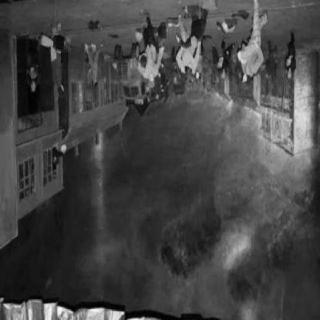Fire: (128, 84, 274, 160)
Smoke: (42, 162, 314, 302)
